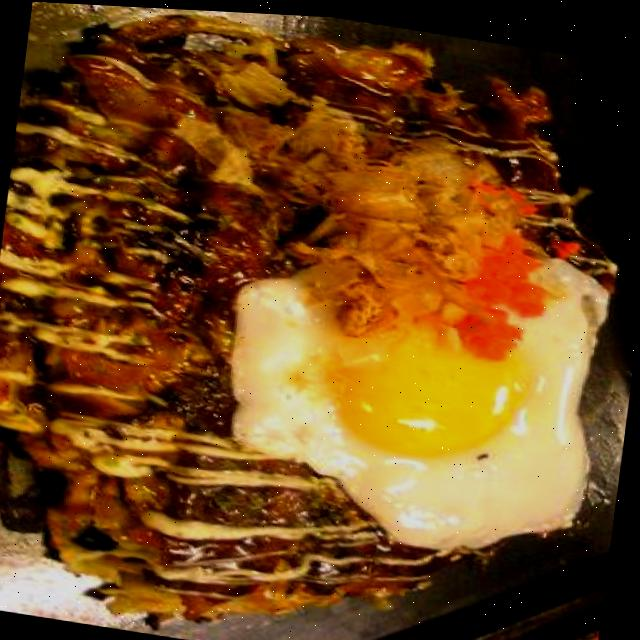蛋糕甜品: (115, 207, 636, 640)
鸡蛋料理: (190, 422, 594, 640)
